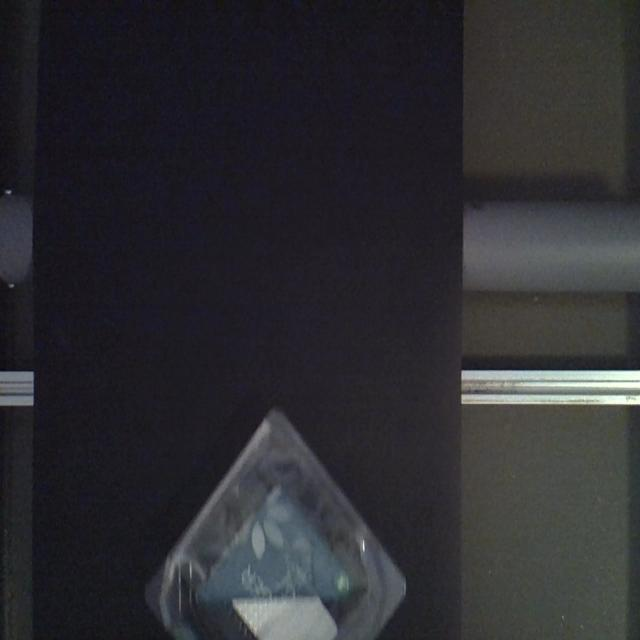mixed-plastics: (144, 402, 408, 638)
